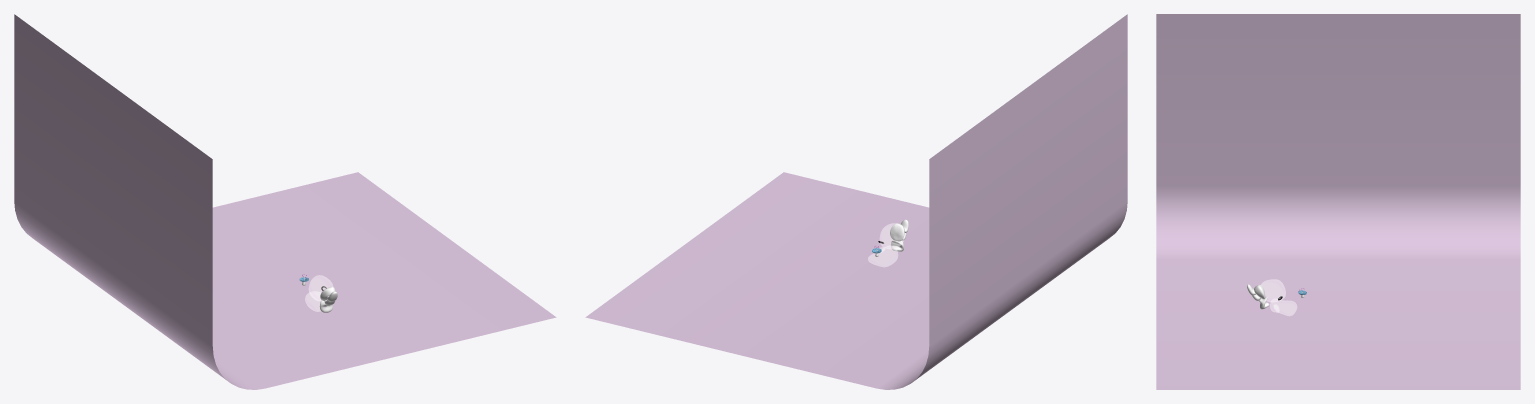
File: lil.glb
3 views of the same model, side by side, from view 1: azimuth 30°, elevation 25°; view 2: azimuth 150°, elevation 25°; view 3: azimuth 270°, elevation 25° (orthographic). The views are drawn at different scales.
Parts seen in each view (by area): view 1: Plane; view 2: Plane, head; view 3: Plane, head, Cube.001.
Boxes of the visible parts, x1,y1,x2,y2 form: Plane: [14, 14, 556, 389]; Plane: [585, 14, 1127, 389]; head: [880, 223, 904, 248]; Plane: [1156, 14, 1520, 389]; head: [1261, 279, 1285, 301]; Cube.001: [1270, 299, 1296, 315].
Bounding box in the file's own units: 26.67 × 17.94 × 26.67.
